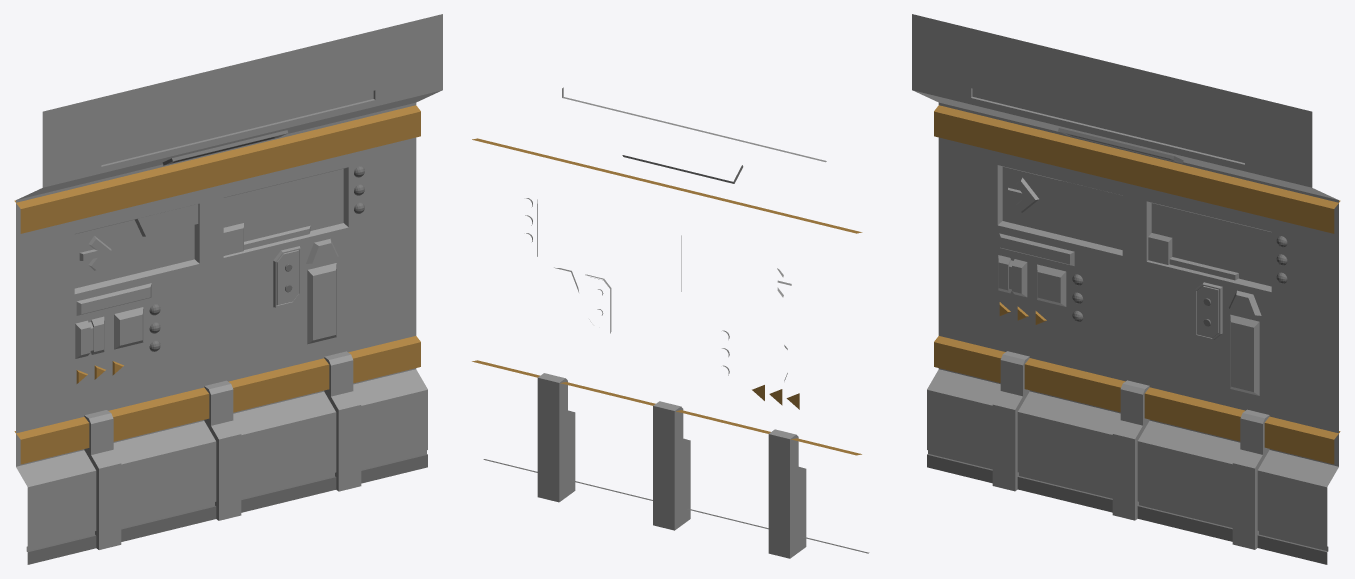
Rendered from quaternius-modular-sci-fi-wall-4.glb.
The picture shows the model from 3 angles, left to right: view 1: azimuth 30°, elevation 25°; view 2: azimuth 150°, elevation 25°; view 3: azimuth 330°, elevation 25°; orthographic projection. The views are drawn at different scales.
Visible parts, largest first — view 1: Wall_4; view 2: Wall_4; view 3: Wall_4.
Boxes of the visible parts, x1,y1,x2,y2 form: Wall_4: (14, 14, 442, 564); Wall_4: (472, 87, 869, 558); Wall_4: (912, 14, 1340, 564).
Bounding box in the file's own units: 4 × 4.43 × 0.5723.
